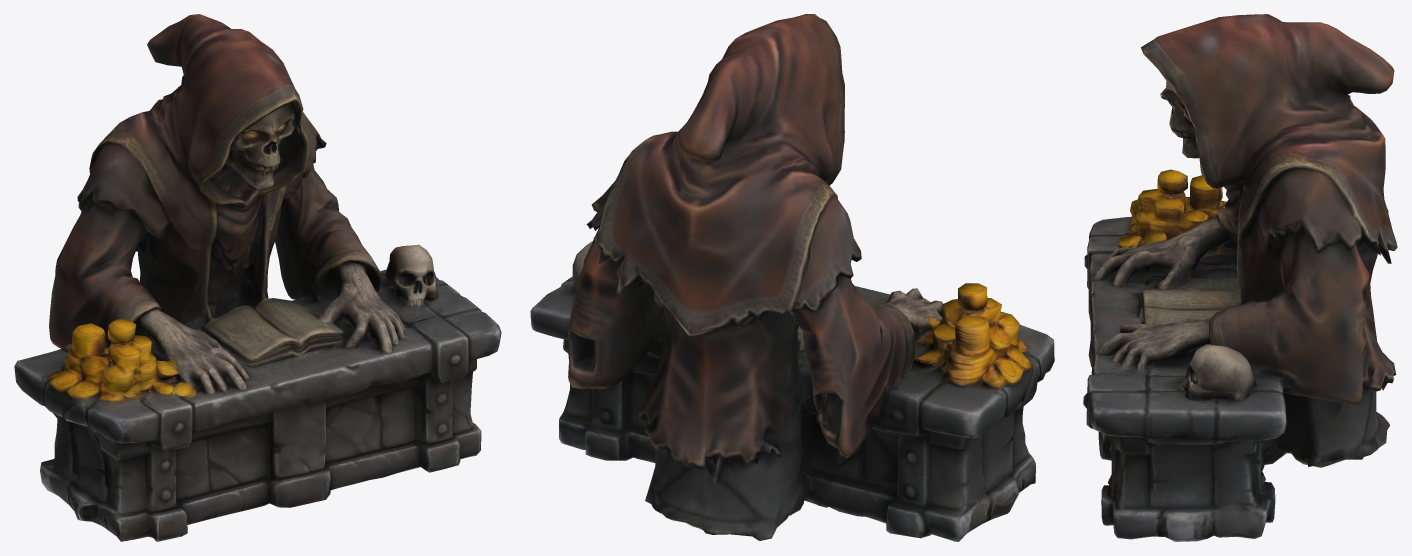
The model's file is merchant_crucible.glb.
3 views of the same model, side by side, from view 1: azimuth 30°, elevation 25°; view 2: azimuth 150°, elevation 25°; view 3: azimuth 270°, elevation 25° (orthographic). The views are drawn at different scales.
Size of the model in its own units: 2 by 1.99 by 1.3.
Materials: 1 (1 with a texture image).
